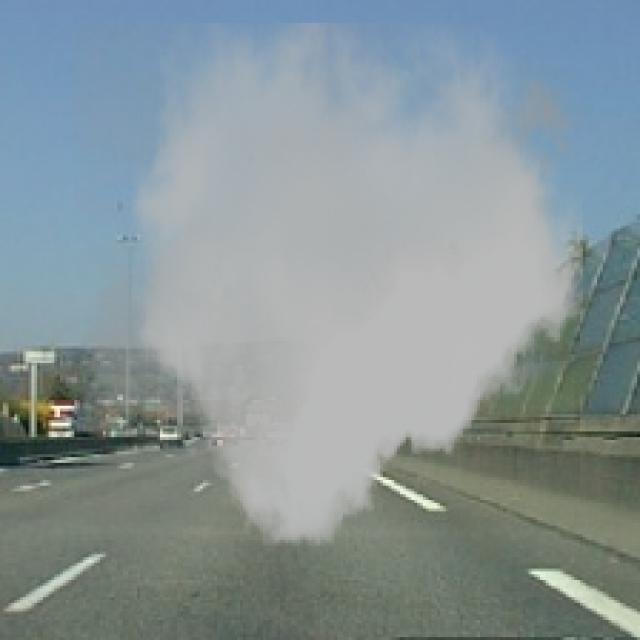smoke: (74, 23, 592, 546)
